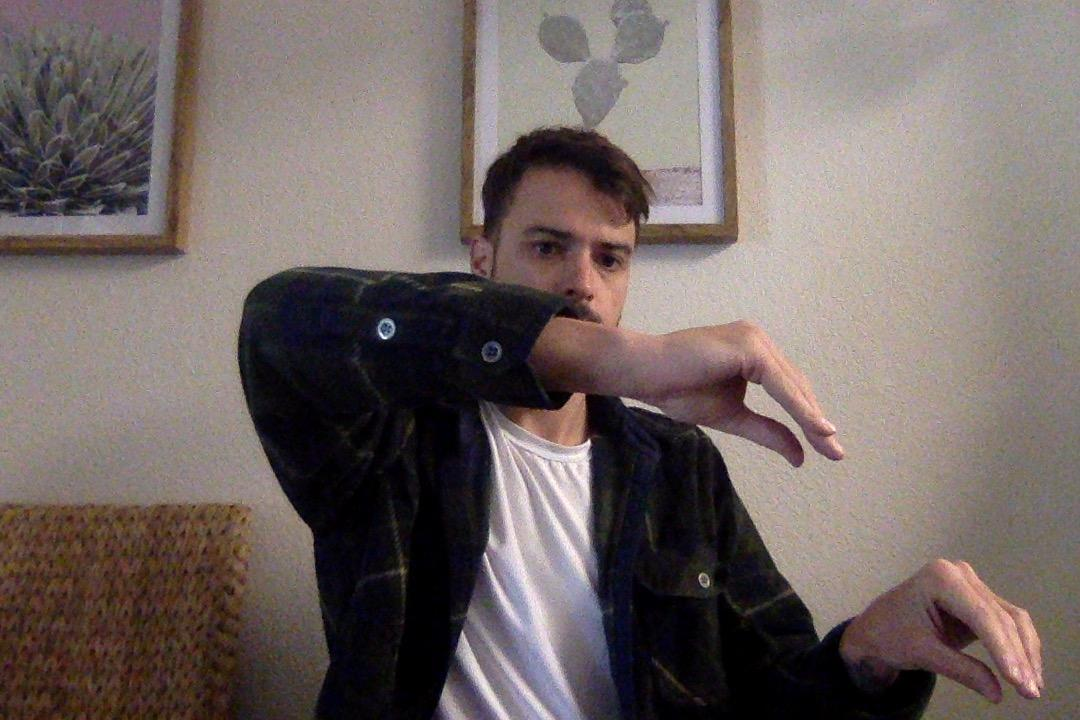Pinched-Fingers: (615, 307, 845, 481), (848, 545, 1047, 718)
